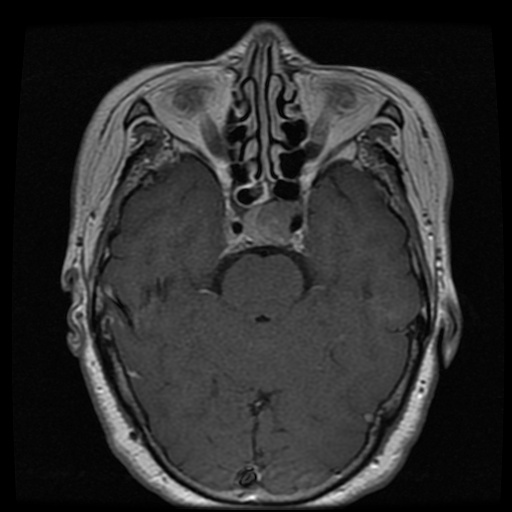pituitary: (244, 201, 301, 244)
